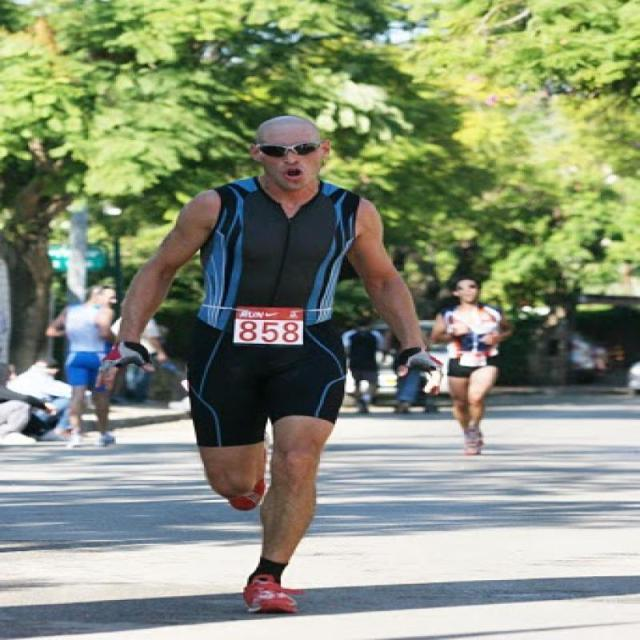dorsal: (230, 305, 312, 348)
